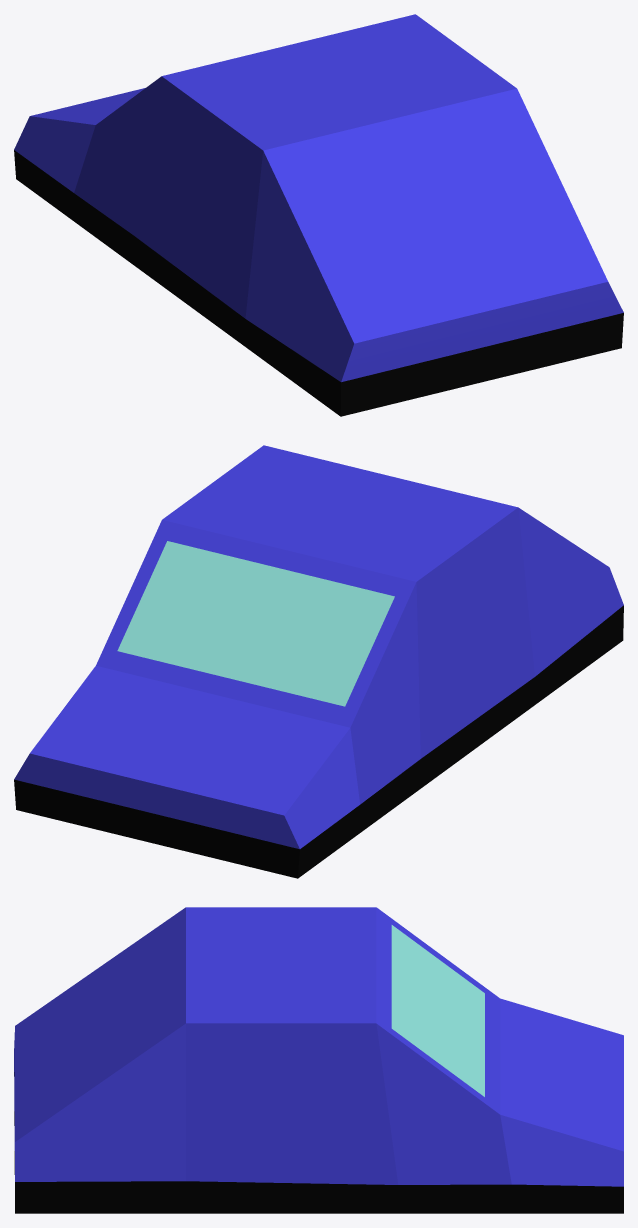
The model's file is car2.fbx.
3 views of the same model, one above another, from view 1: azimuth 30°, elevation 25°; view 2: azimuth 150°, elevation 25°; view 3: azimuth 270°, elevation 25° (orthographic). The views are drawn at different scales.
Parts seen in each view (by area): view 1: Cube.004; view 2: Cube.004; view 3: Cube.004.
Part boxes in pixels (box(x1,y1,x2,y2)): Cube.004: box(14, 14, 623, 416); Cube.004: box(14, 445, 623, 878); Cube.004: box(14, 907, 623, 1213).
Size of the model in its own units: 204 by 133 by 401.
